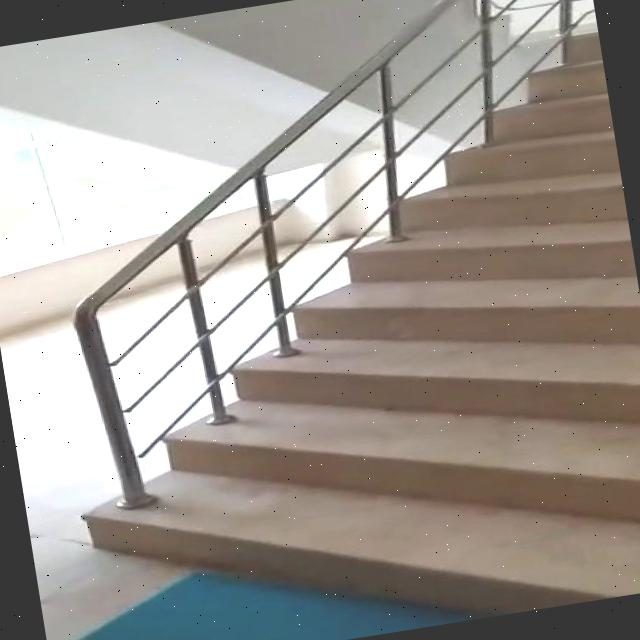stairs: (19, 28, 640, 640)
